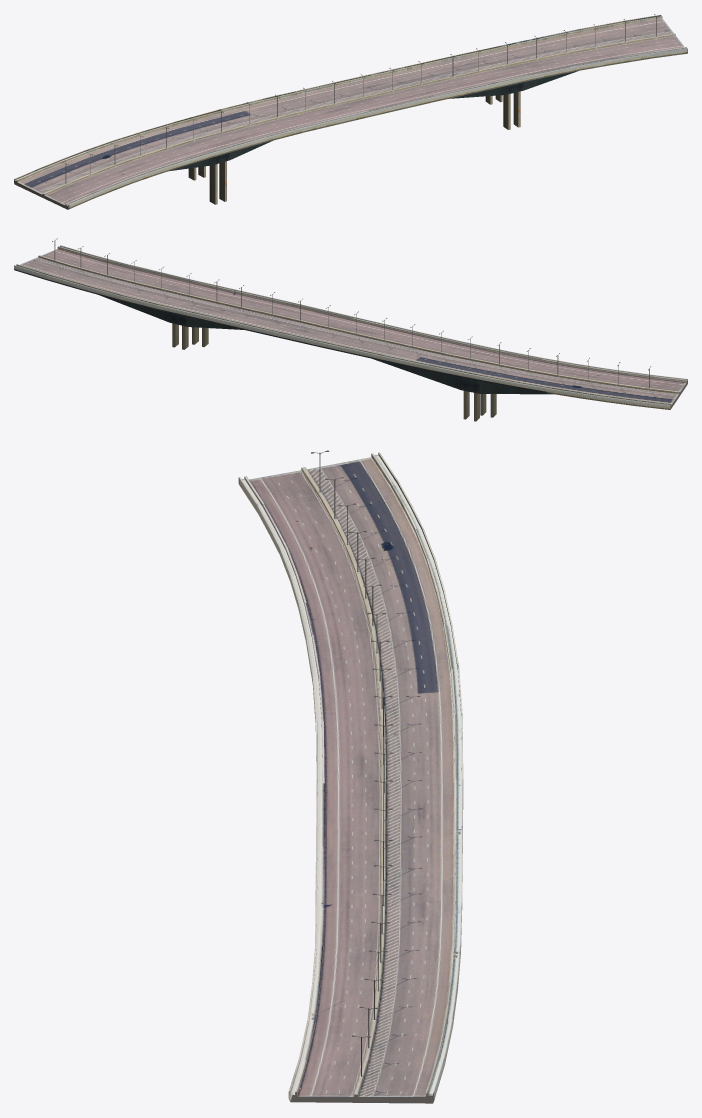
The model's file is roads_context_09.glb.
3 renders of one model, top to bottom at view 1: azimuth 30°, elevation 25°; view 2: azimuth 150°, elevation 25°; view 3: azimuth 270°, elevation 25°, orthographic. The views are drawn at different scales.
Parts seen in each view (by area): view 1: I090241736107063A0.001; view 2: I090241736107063A0.001; view 3: I090241736107063A0.001.
Boxes of the visible parts, x1=… form: I090241736107063A0.001: x1=14, y1=14, x2=687, y2=209; I090241736107063A0.001: x1=14, y1=238, x2=687, y2=421; I090241736107063A0.001: x1=238, y1=450, x2=463, y2=1103.
Size of the model in its own units: 402 by 47.9 by 60.81.
Materials: 1 (1 with a texture image).
